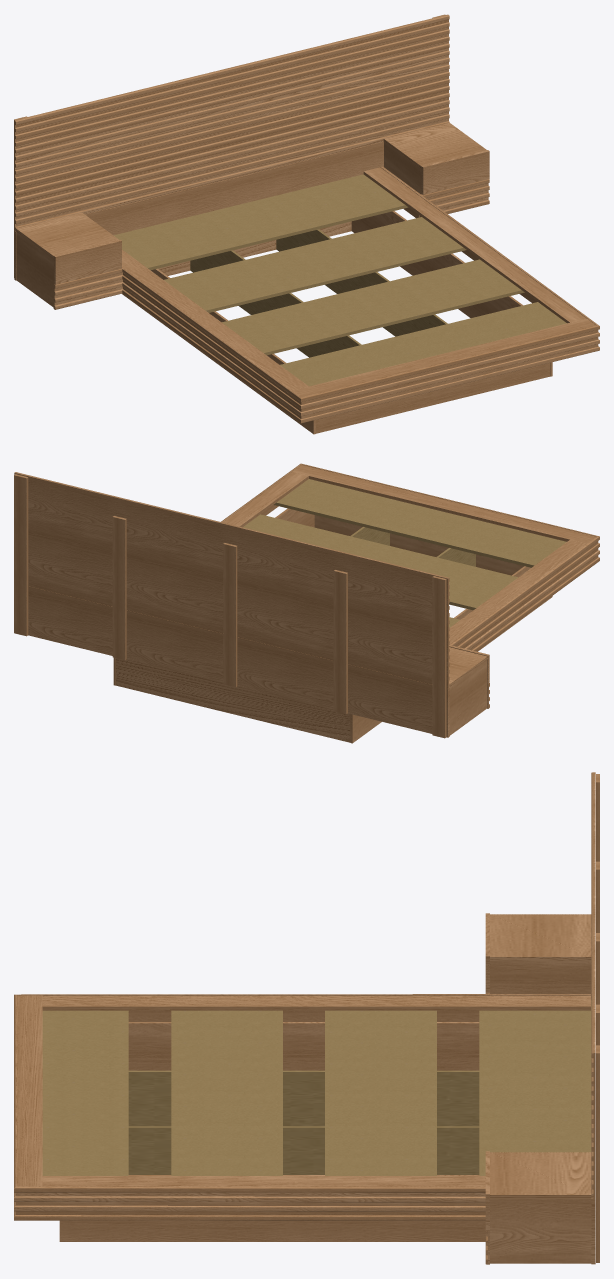
File: MM_Orig.gltf
3 renders of one model, top to bottom at view 1: azimuth 30°, elevation 25°; view 2: azimuth 150°, elevation 25°; view 3: azimuth 270°, elevation 25°, orthographic. The views are drawn at different scales.
Visible parts, largest first — view 1: Box034, Object008, Box084, Box085, Box086, Box061, Box083, Box092, Box091, Box053, Box088; view 2: Box034, Box083, Box088, Box084, Box061, Box030, Box026, Box027, Box029, Box028, Object008, Box091 (+1 smaller); view 3: Box034, Box084, Box085, Box086, Box083, Box061, Box092, Box091, Object008, Box026.
Boxes of the visible parts, bbox=[...] form: Box034: bbox=[14, 14, 598, 434]; Object008: bbox=[15, 15, 449, 223]; Box084: bbox=[222, 259, 524, 355]; Box085: bbox=[164, 217, 466, 312]; Box086: bbox=[113, 174, 408, 270]; Box061: bbox=[54, 166, 599, 423]; Box083: bbox=[280, 302, 566, 386]; Box092: bbox=[190, 250, 361, 357]; Box091: bbox=[276, 229, 447, 336]; Box053: bbox=[15, 121, 449, 230]; Box088: bbox=[158, 221, 351, 275]; Box034: bbox=[14, 464, 598, 743]; Box083: bbox=[273, 479, 566, 567]; Box088: bbox=[116, 658, 350, 742]; Box084: bbox=[243, 514, 517, 610]; Box061: bbox=[221, 463, 599, 693]; Box030: bbox=[432, 576, 446, 738]; Box026: bbox=[14, 474, 28, 636]; Box027: bbox=[112, 516, 126, 660]; Box029: bbox=[333, 570, 347, 714]; Box028: bbox=[223, 543, 237, 687]; Object008: bbox=[15, 472, 449, 680]; Box091: bbox=[350, 527, 389, 545]; Box034: bbox=[15, 772, 595, 1264]; Box084: bbox=[171, 1010, 282, 1175]; Box085: bbox=[325, 1010, 436, 1175]; Box086: bbox=[479, 1000, 591, 1175]; Box083: bbox=[42, 1010, 128, 1175]; Box061: bbox=[14, 993, 590, 1220]; Box092: bbox=[128, 1070, 479, 1126]; Box091: bbox=[128, 1126, 479, 1174]; Object008: bbox=[591, 772, 593, 1189]; Box026: bbox=[596, 1045, 599, 1262].
Size of the model in its own units: 2.28 by 0.9551 by 2.01.
Materials: 2 (2 with a texture image).
